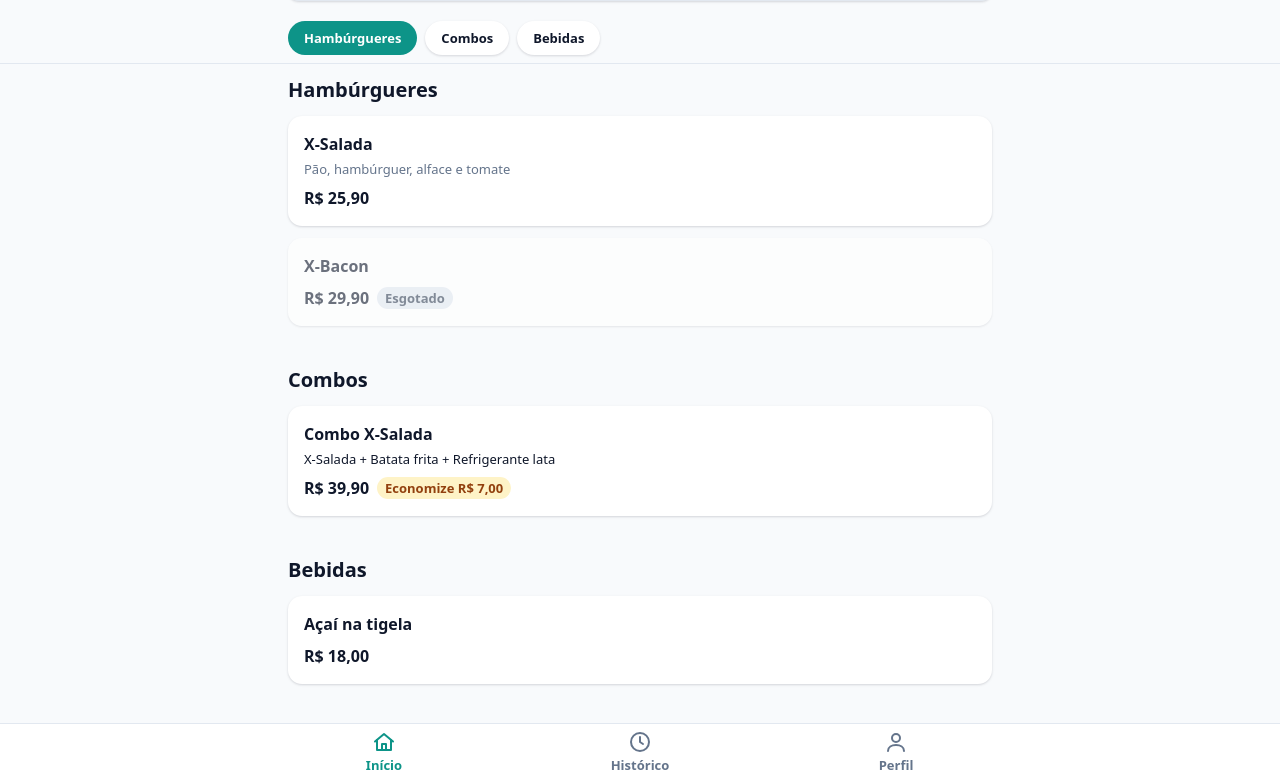
escolher o produto › Esc fecha a janela sem adicionar nada
(page scrolled)
Click the button "Açaí na tigela".
click(358, 624)  # box [304,612,412,636]
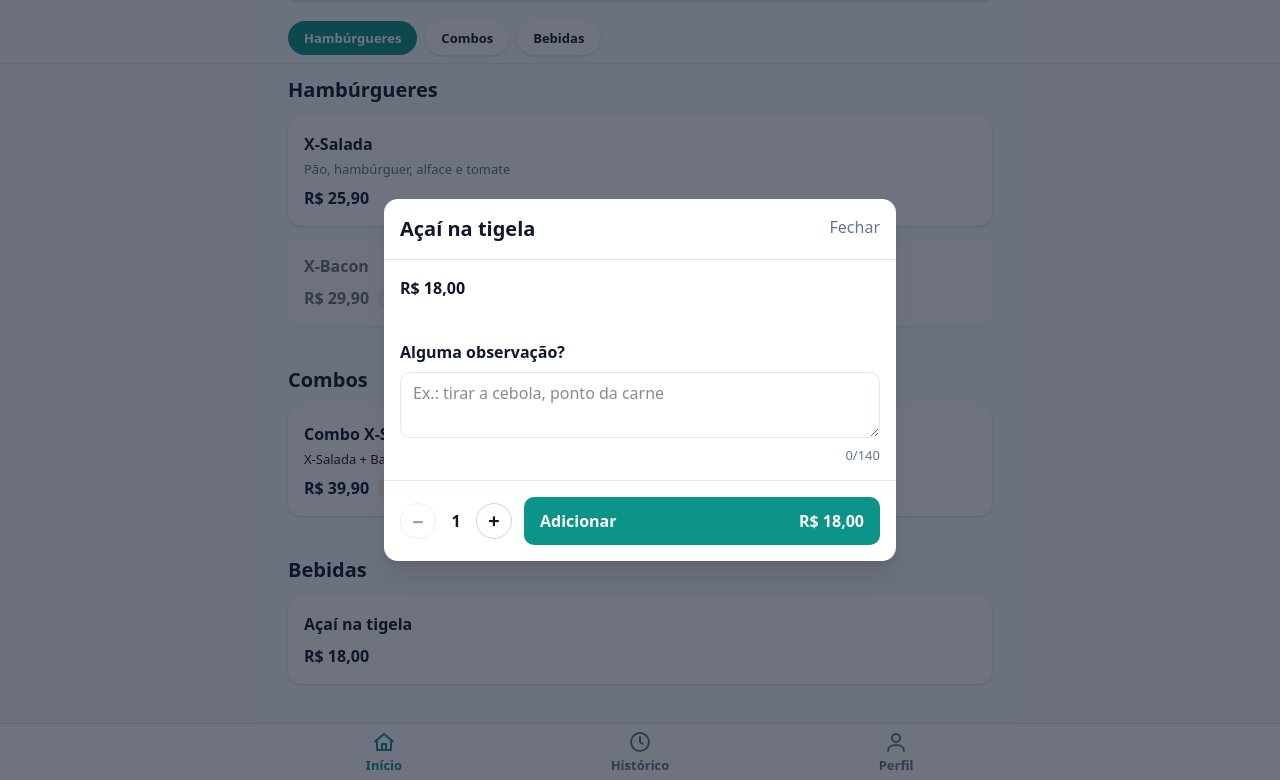
Press Escape
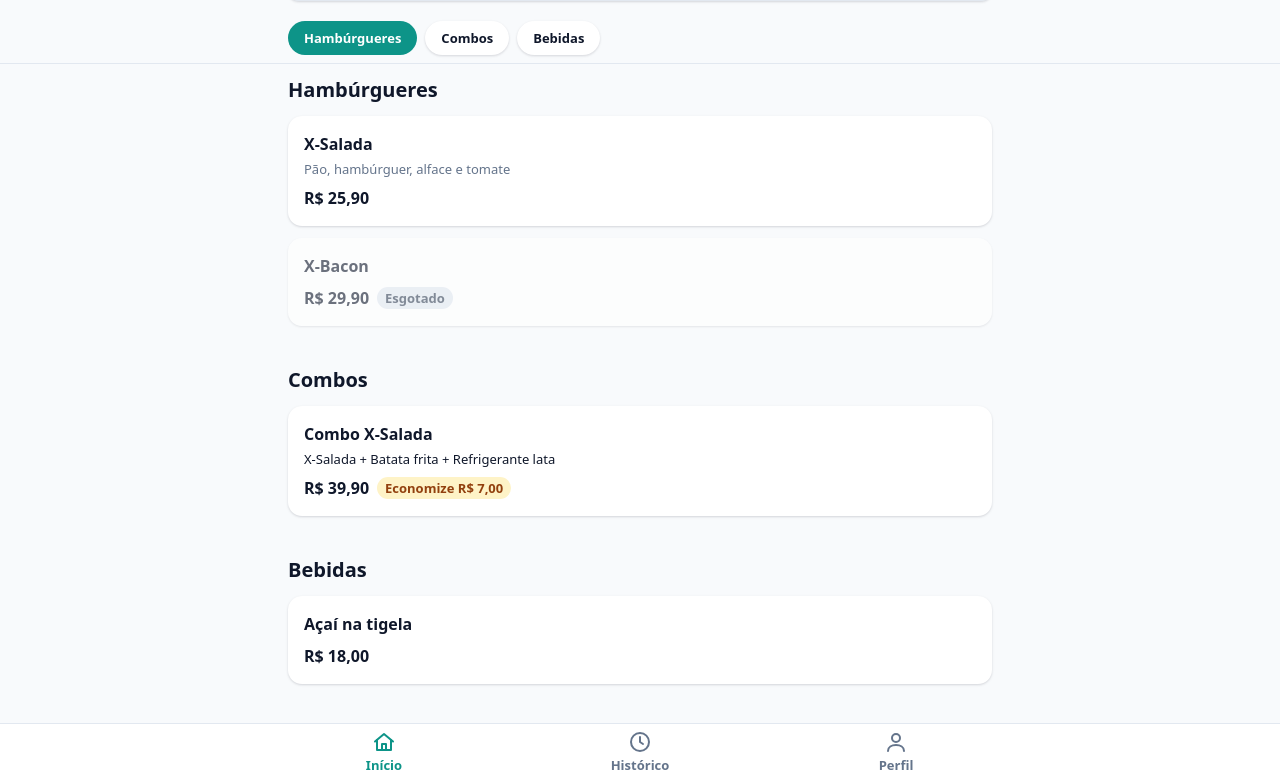
expect the dialog is gone: met
